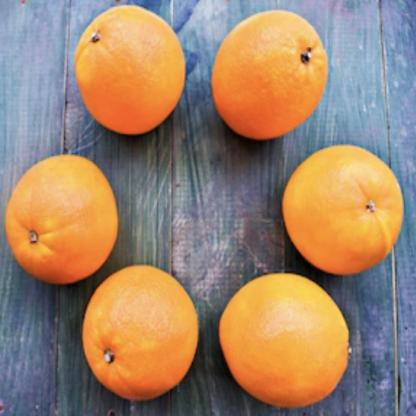fresh: (5, 7, 403, 410)
